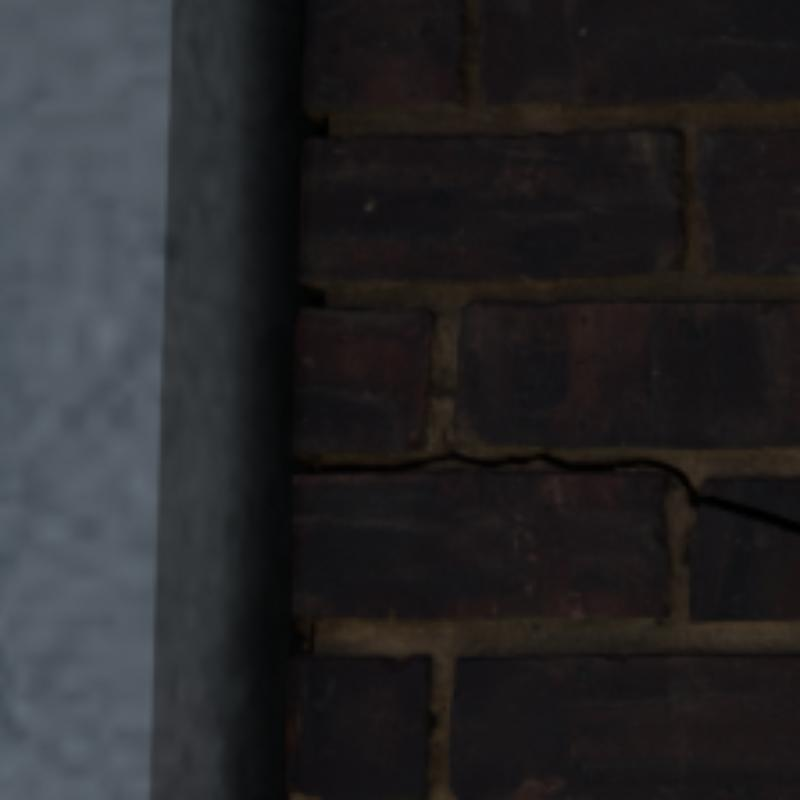pothole: (318, 450, 796, 529)
